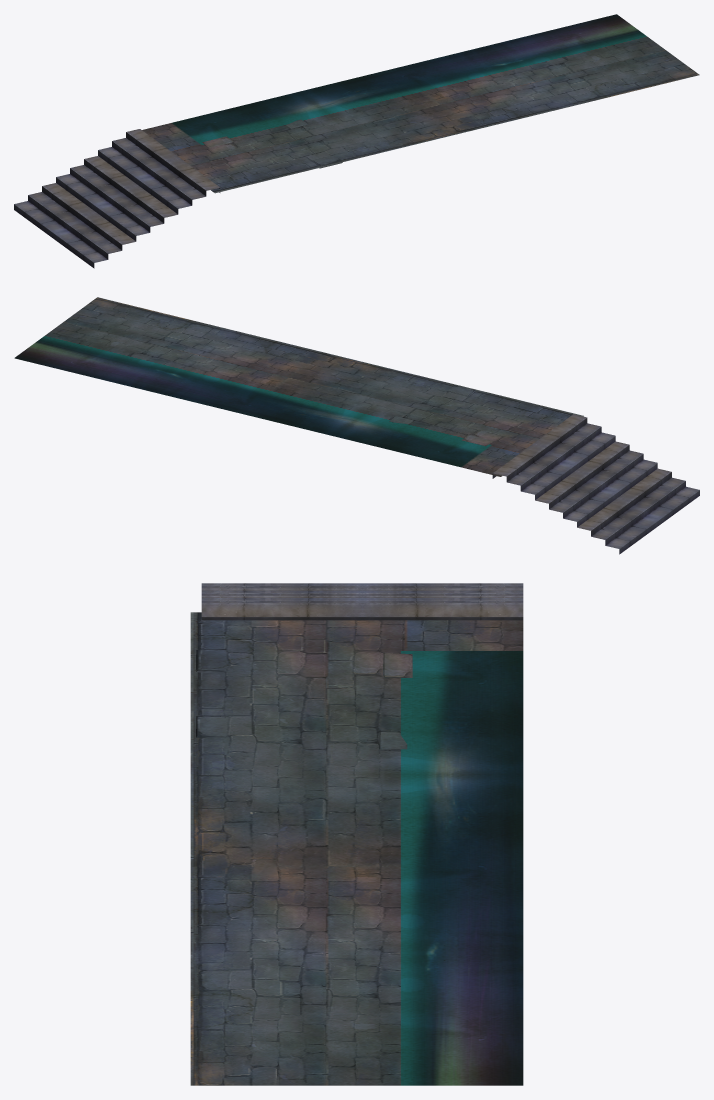
File: HuBian_NightGround01_FBX.FBX
The picture shows the model from 3 angles, top to bottom: view 1: azimuth 30°, elevation 25°; view 2: azimuth 150°, elevation 25°; view 3: azimuth 270°, elevation 25°; orthographic projection. The views are drawn at different scales.
Visible parts, largest first — view 1: HuBian_NightGround01_FBX; view 2: HuBian_NightGround01_FBX; view 3: HuBian_NightGround01_FBX.
Part boxes in pixels (bbox=[...]): HuBian_NightGround01_FBX: bbox=[14, 14, 699, 268]; HuBian_NightGround01_FBX: bbox=[14, 297, 699, 554]; HuBian_NightGround01_FBX: bbox=[190, 583, 523, 1085].
Size of the model in its own units: 20.76 by 1.66 by 4.96.
